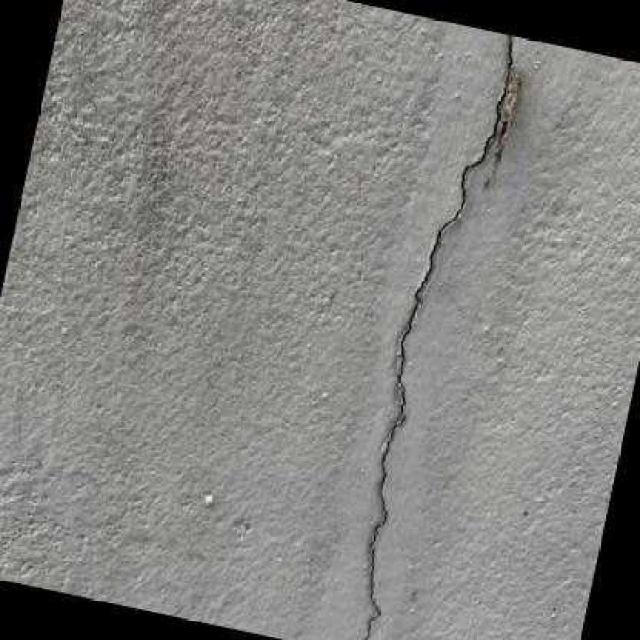D00: (356, 32, 513, 640)
